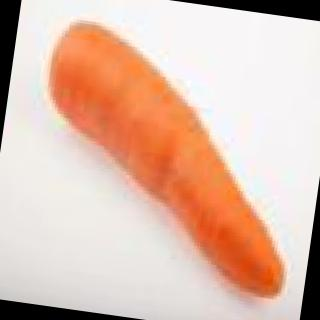Wortel: (6, 8, 320, 314)
